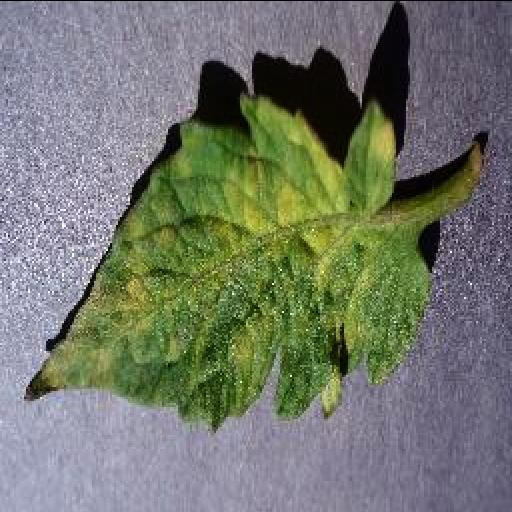disease_tomato: (22, 97, 430, 433)
